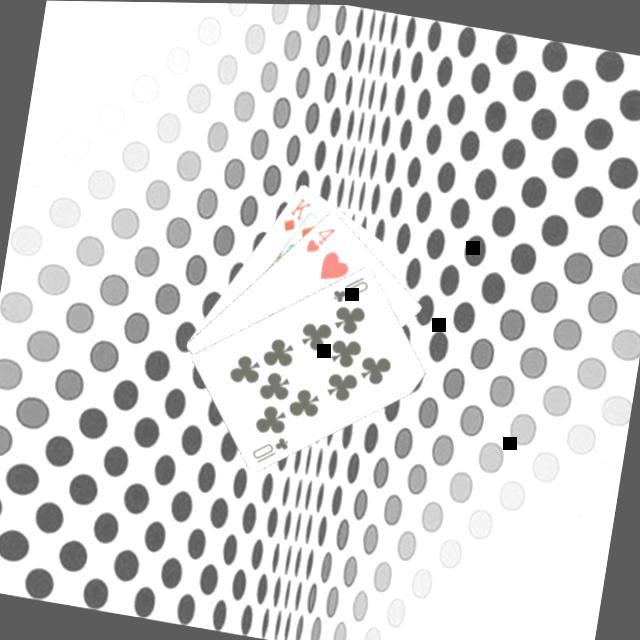10C: (247, 426, 293, 469), (327, 266, 372, 309)
4H: (301, 217, 339, 258)
KD: (278, 189, 316, 236)
